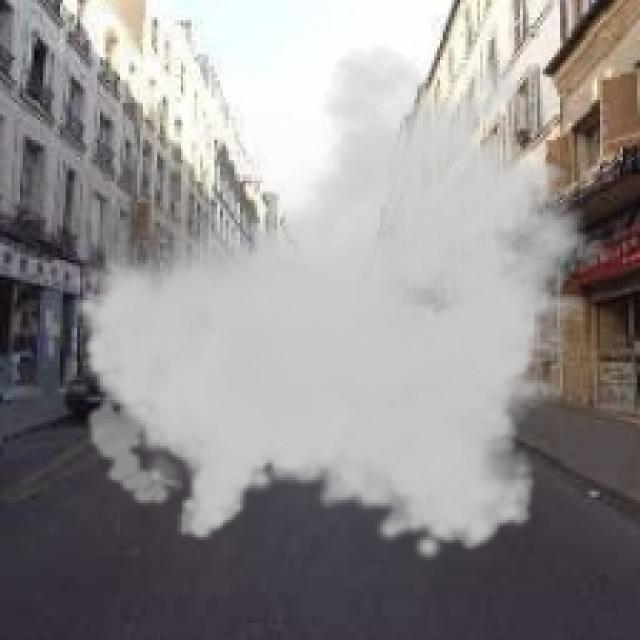Smoke: (71, 43, 632, 563)
